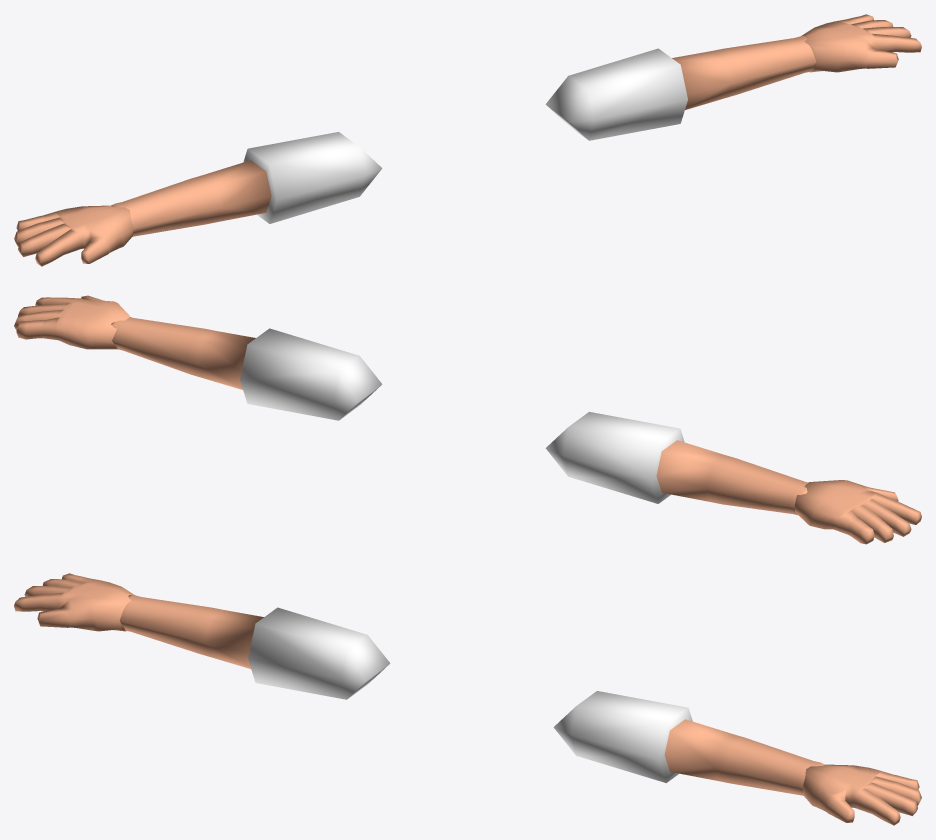
File: NPC_White_Arm_02.gltf
The picture shows the model from 3 angles, top to bottom: view 1: azimuth 30°, elevation 25°; view 2: azimuth 150°, elevation 25°; view 3: azimuth 330°, elevation 25°; orthographic projection.
Visible parts, largest first — view 1: NPC_White_Arm_02; view 2: NPC_White_Arm_02; view 3: NPC_White_Arm_02.
Boxes of the visible parts, x1,y1,x2,y2 form: NPC_White_Arm_02: (14, 14, 921, 266); NPC_White_Arm_02: (14, 295, 921, 544); NPC_White_Arm_02: (14, 573, 921, 825).
Bounding box in the file's own units: 2.31 × 0.147 × 0.2269.
Materials: 1 (1 with a texture image).
